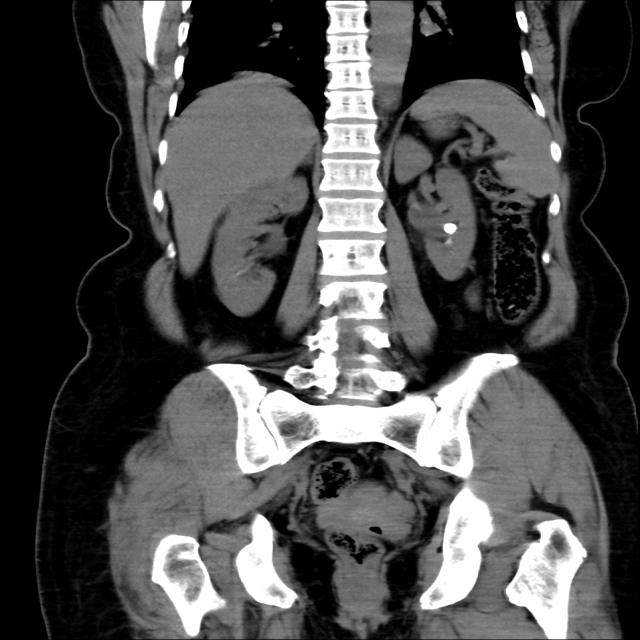kidneystone: (443, 222, 458, 234)
